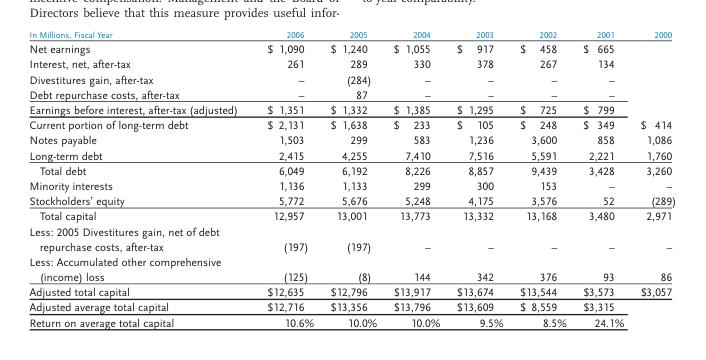table: (28, 28, 675, 328)
table column: (28, 28, 251, 328), (251, 28, 321, 328), (510, 28, 574, 328), (321, 28, 384, 328), (384, 28, 447, 328), (447, 28, 510, 328), (574, 28, 631, 328), (631, 28, 675, 328)
table column header: (28, 28, 675, 40)
table row: (28, 223, 675, 253), (28, 253, 675, 283), (28, 40, 675, 56), (28, 116, 675, 132), (28, 192, 675, 208), (28, 283, 675, 299), (28, 56, 675, 71), (28, 71, 675, 86), (28, 86, 675, 101), (28, 101, 675, 116), (28, 132, 675, 147), (28, 147, 675, 162), (28, 162, 675, 177), (28, 177, 675, 192), (28, 208, 675, 223), (28, 299, 675, 314), (28, 314, 675, 328), (28, 28, 675, 40)
